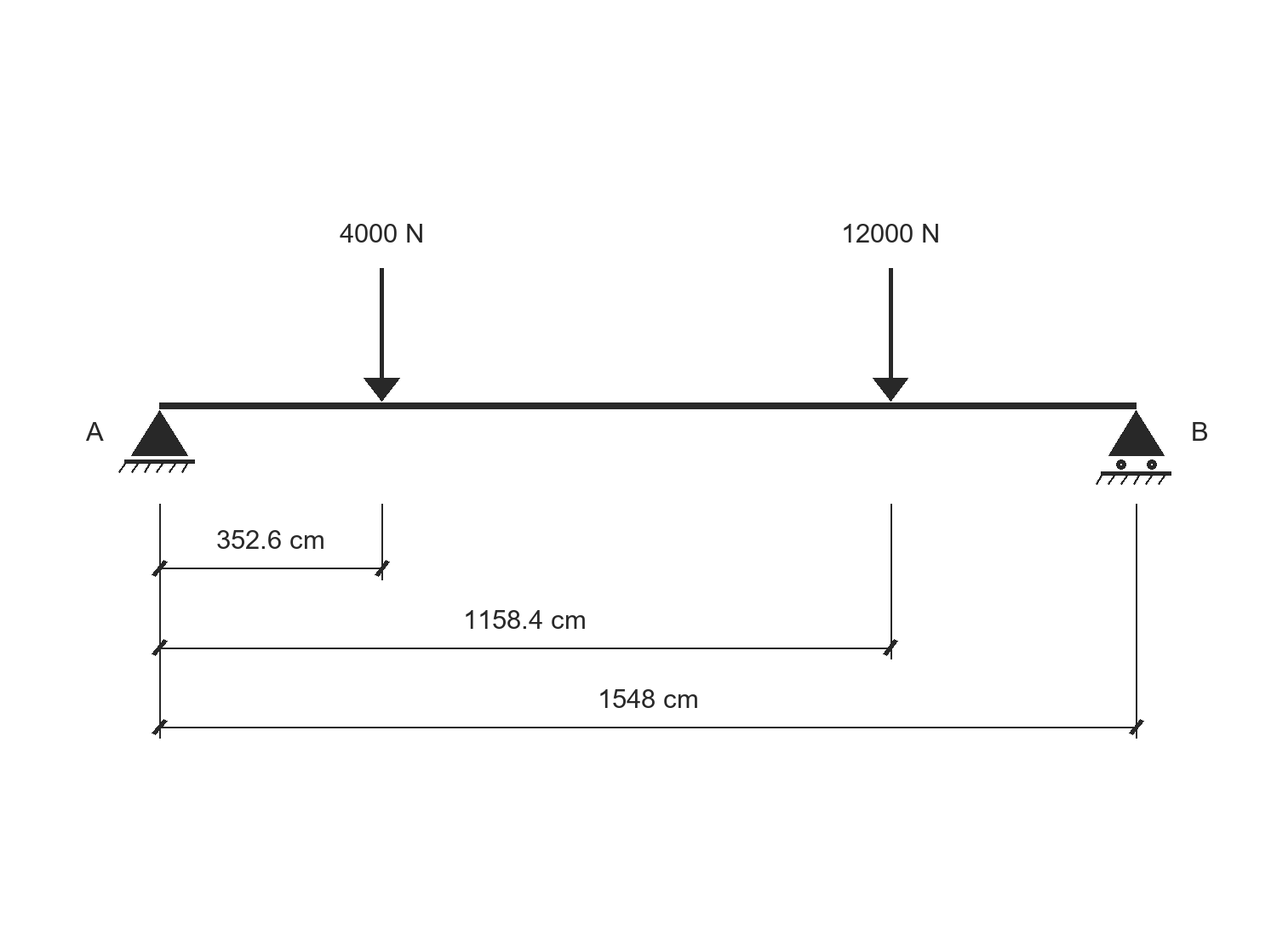pin_support: (118, 410, 195, 473)
point_load: (364, 268, 400, 402), (873, 268, 908, 402)
roller_support: (1096, 410, 1171, 485)
